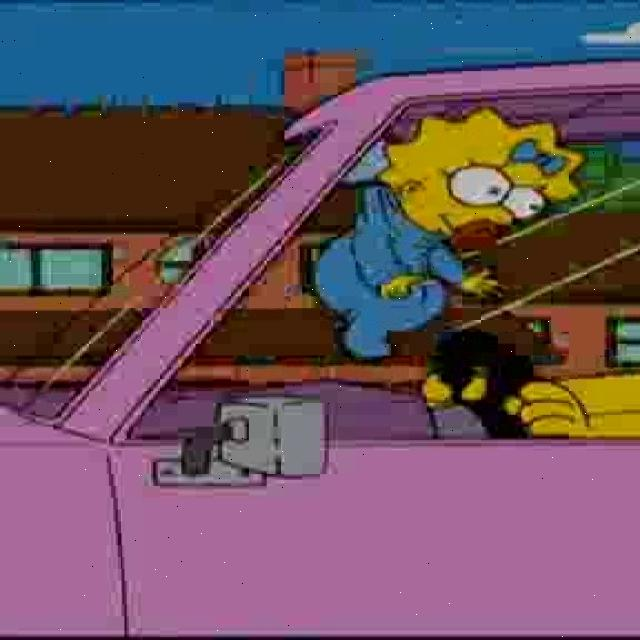Maggie Simpson: (372, 104, 588, 254)
